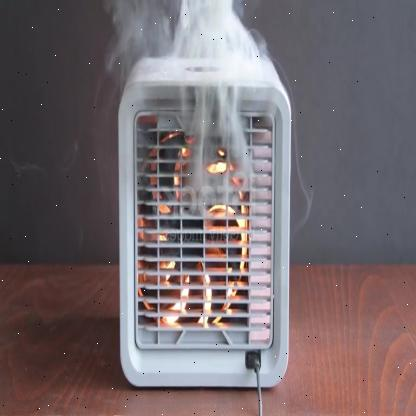smoke: (96, 0, 304, 204)
